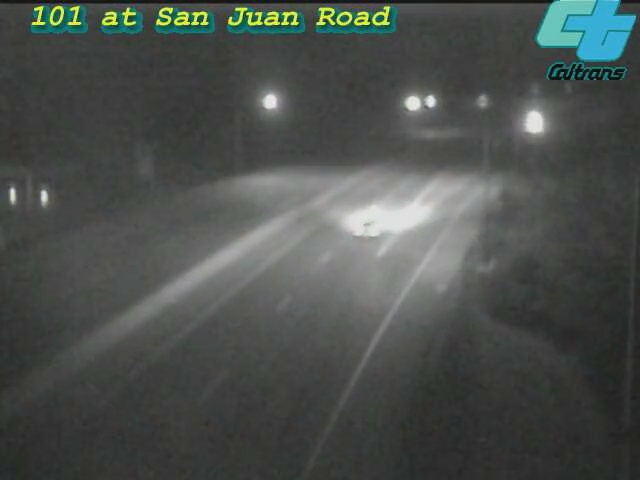vehicle: (332, 183, 412, 263), (505, 97, 555, 147)
